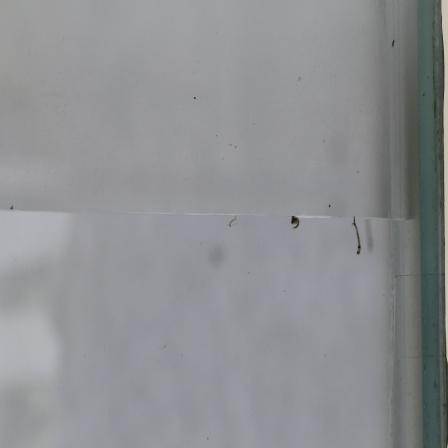Jentik-Nyamuk: (349, 214, 364, 258), (287, 211, 302, 234)
